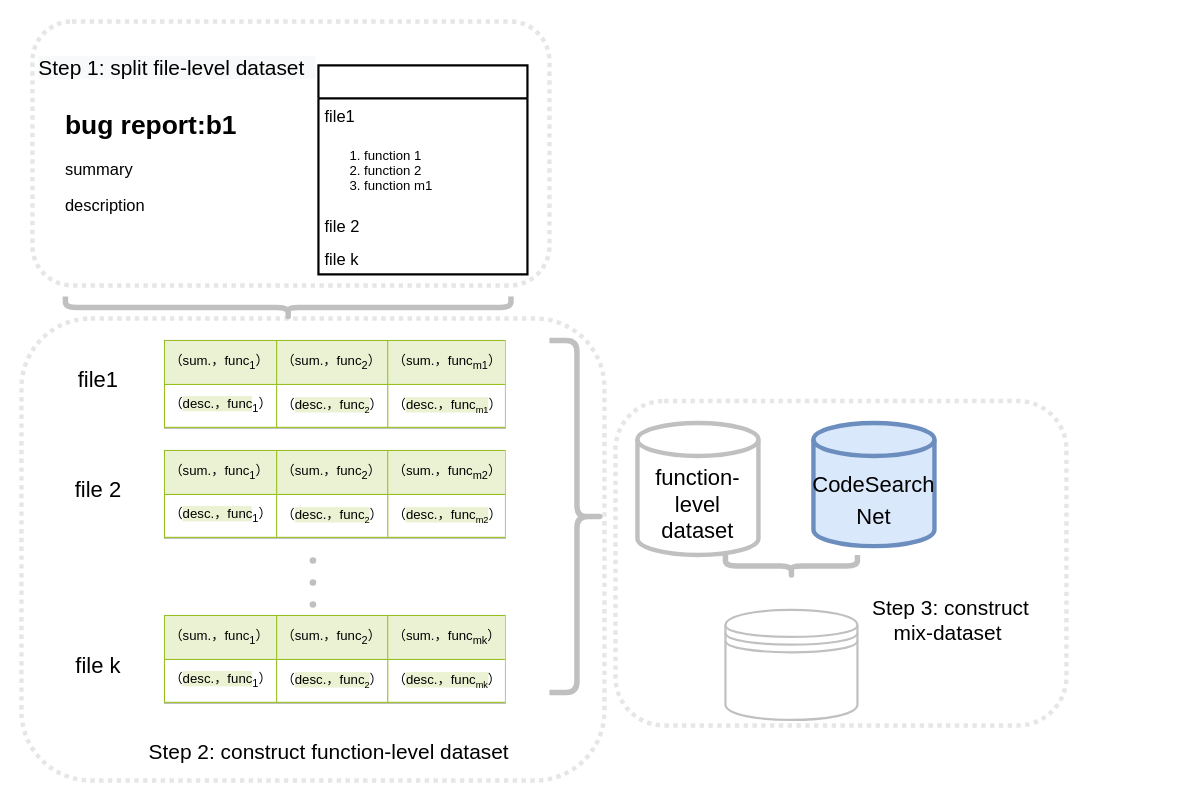
The diagram is 1184 pixels wide and 801 high, and some of its shapes have lost their labels. The box of each missing label's shape, as (x1, y1, x2, y2) in pixels:
buggy files: (317, 64, 528, 275)
MIX dataset: (724, 608, 858, 721)
